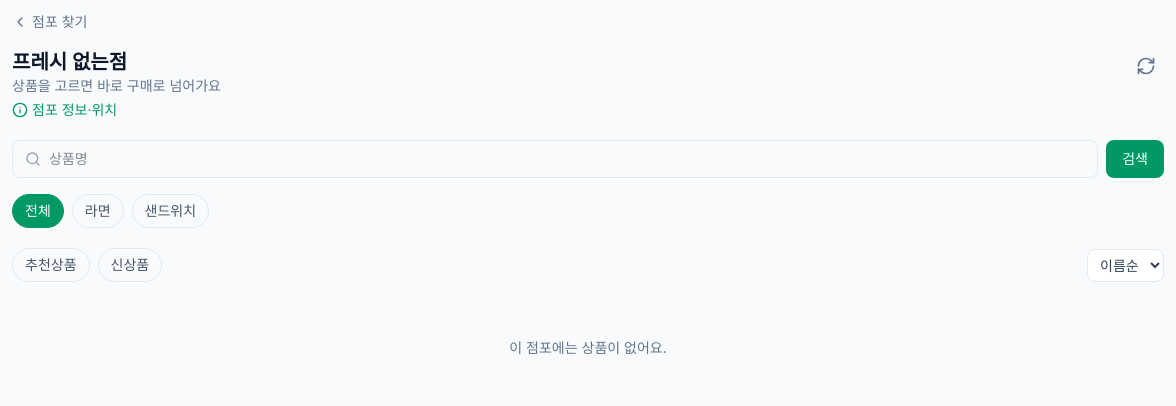
Test: 고객 점포 상품 목록 (U-10) › 상품이 없으면 안내 문구를, 오류면 다시 시도를 보여 준다
Expected: the text "이 점포에는 상품이 없어요." is shown, [509,339,667,356]
Step 1. Click the button named "새로고침" → click(1146, 66), box [1128,48,1164,84]
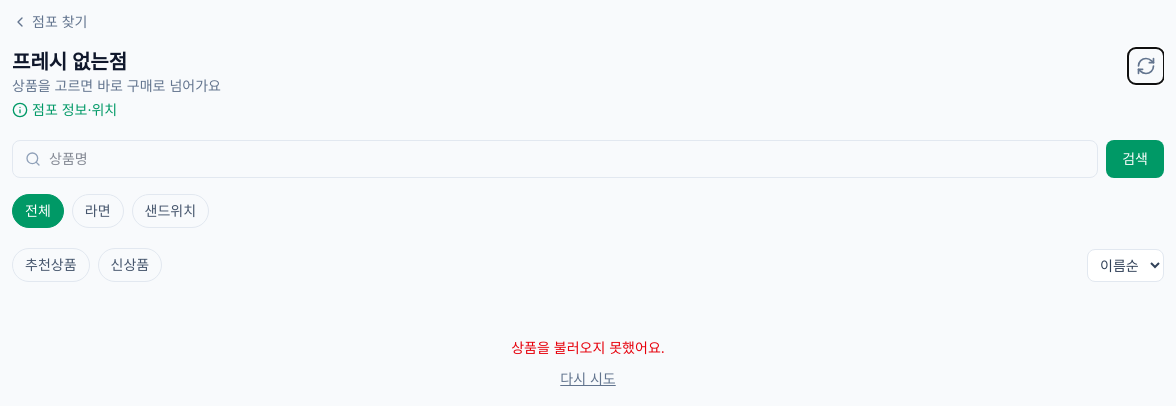
Expected: the text "상품을 불러오지 못했어요." is shown, [511,339,665,356]
Expected: the button "다시 시도" is shown, [560,369,616,389]
